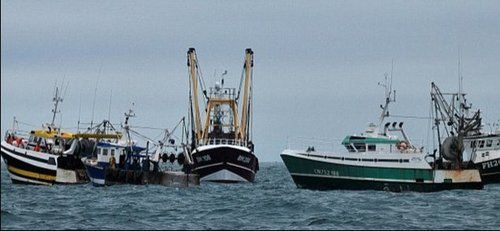otherboat: (3, 101, 187, 193), (280, 110, 490, 188), (183, 43, 273, 184)
